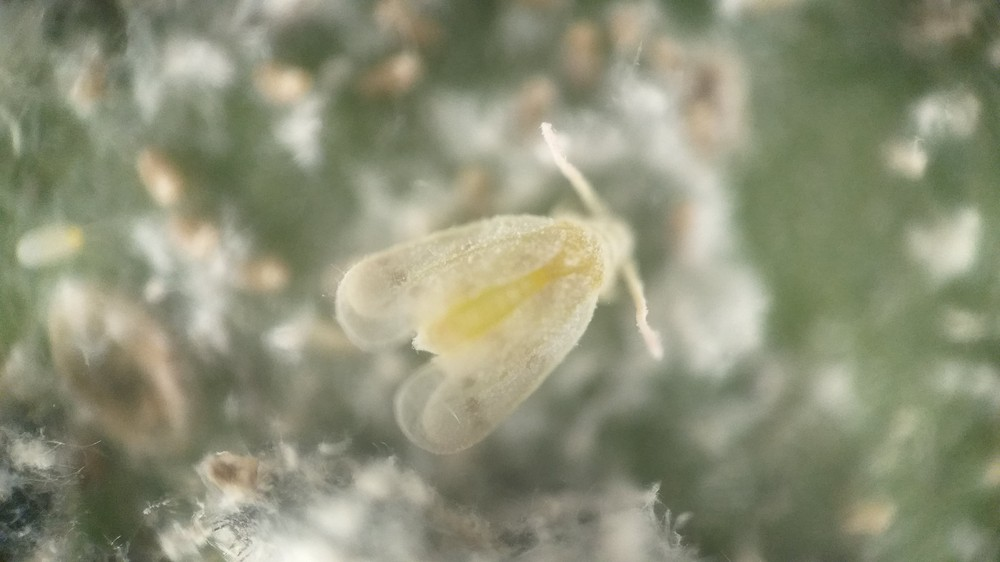Mosca Blanca: (317, 114, 681, 474)
